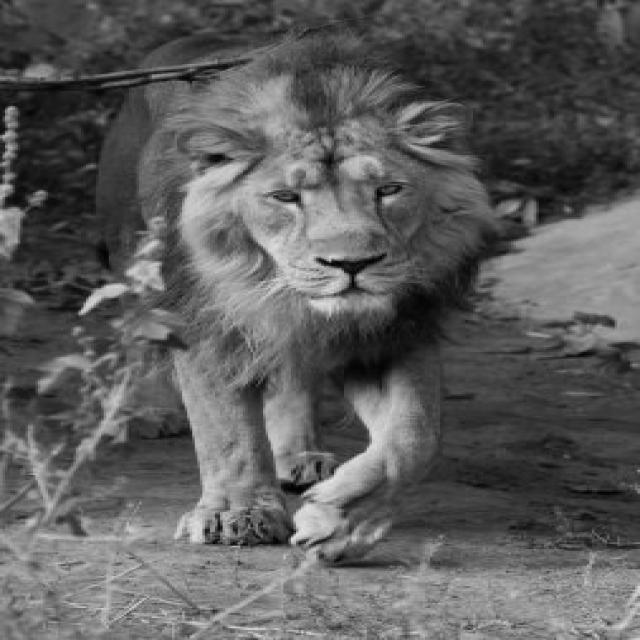Animal: (98, 28, 492, 561)
